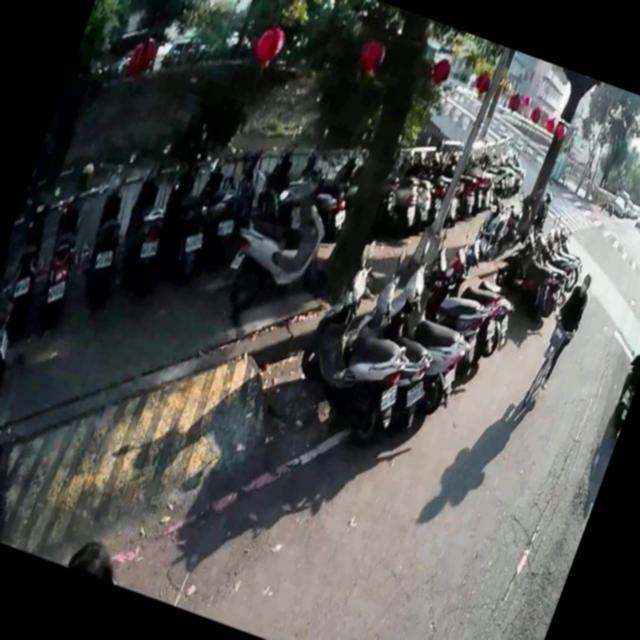person: (529, 260, 601, 394)
